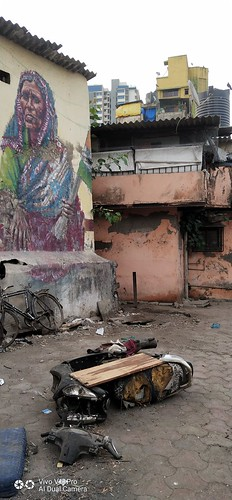bicicle: (1, 280, 74, 335)
building: (1, 33, 116, 320), (97, 124, 232, 306), (152, 54, 232, 132)
graffiti: (1, 68, 85, 256)
sky: (93, 1, 232, 68)
trash: (1, 334, 209, 500)
